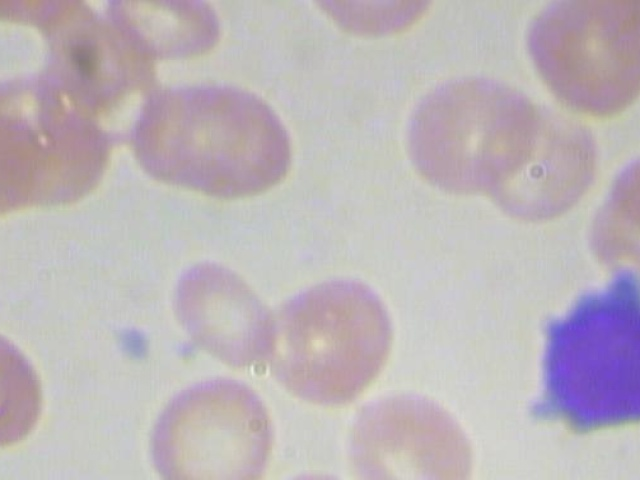RBC: (166, 72, 307, 212), (257, 267, 397, 407), (403, 65, 544, 204), (467, 92, 604, 224), (144, 367, 284, 480), (519, 0, 640, 117), (342, 385, 483, 480), (168, 251, 277, 366), (102, 0, 238, 62), (312, 0, 445, 48), (605, 116, 640, 238), (249, 469, 396, 480)
WBC: (502, 261, 640, 449)
